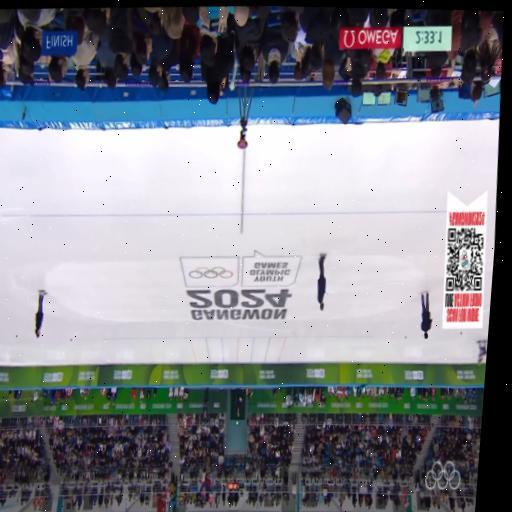Skater: (475, 339, 488, 364), (485, 344, 487, 364)
